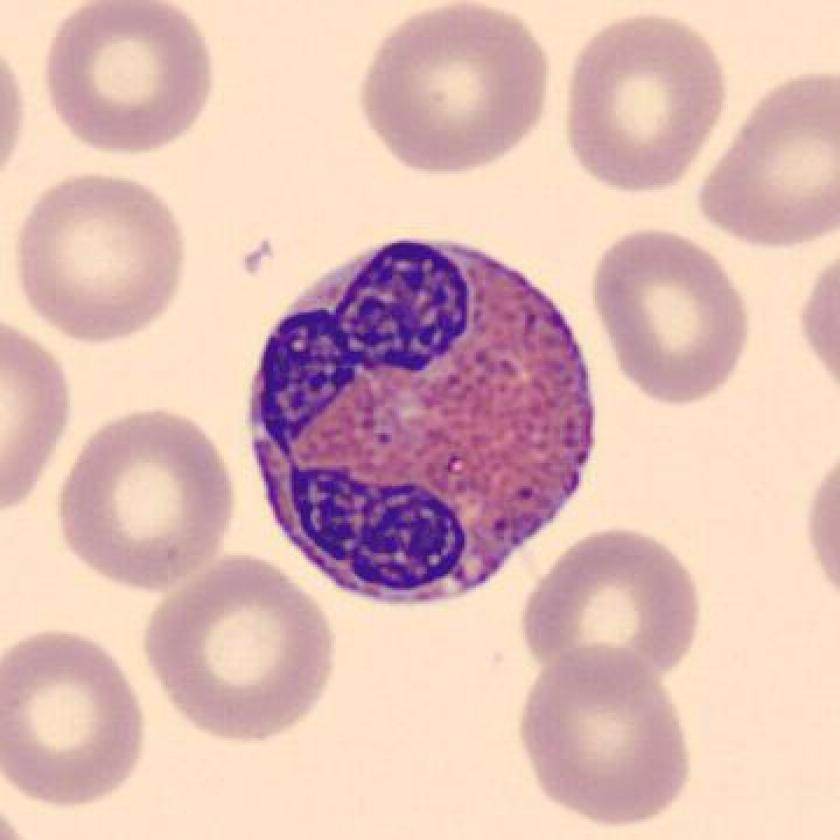eosinophil: (237, 230, 608, 619)
